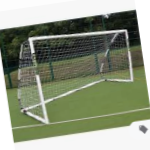goals: (16, 29, 137, 123)
